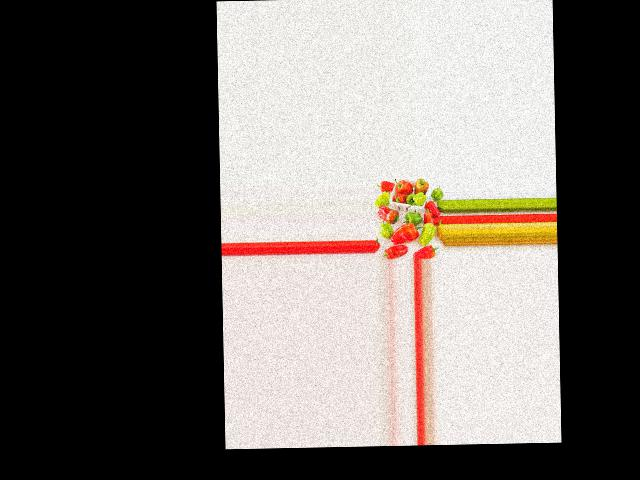bell_pepper: (416, 243, 440, 259)
